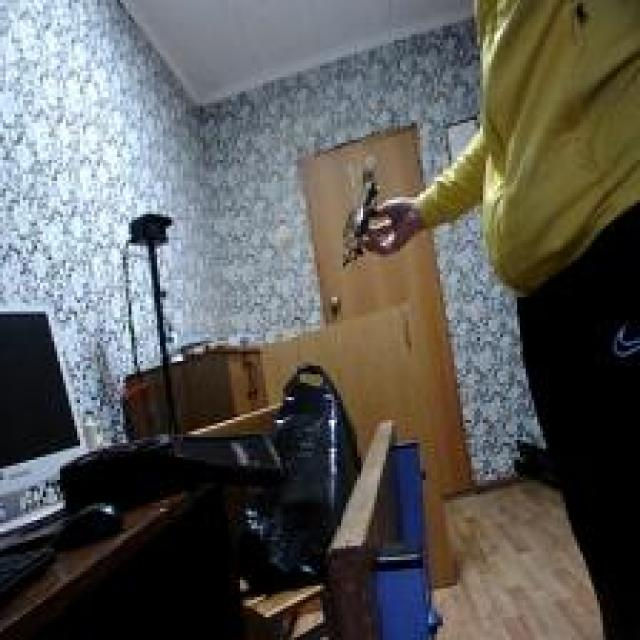drone: (330, 157, 387, 277)
